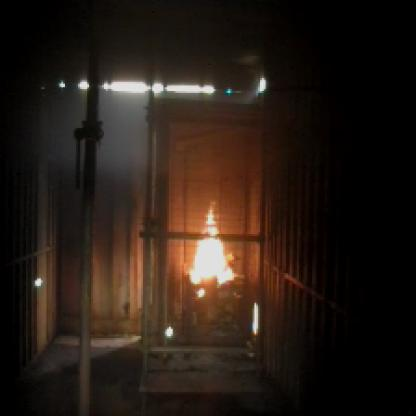Fire: (188, 198, 232, 292)
